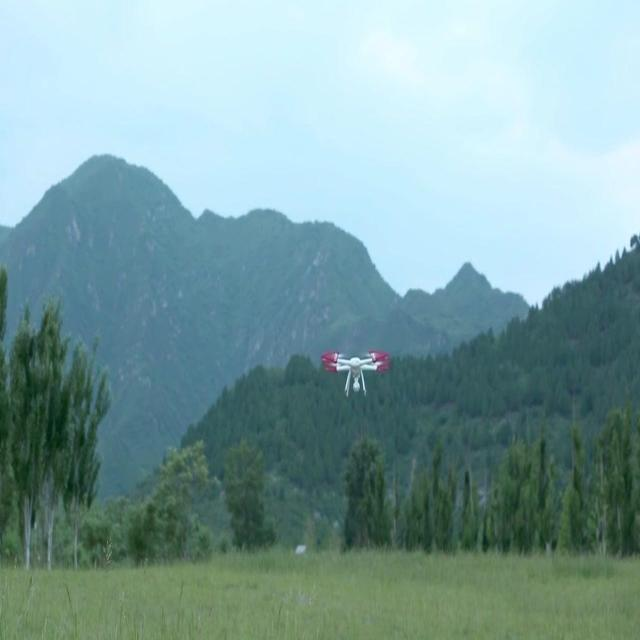drone: (321, 347, 391, 399)
